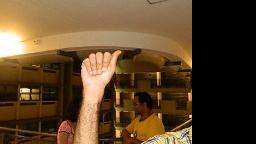Pugno: (76, 48, 123, 87)
